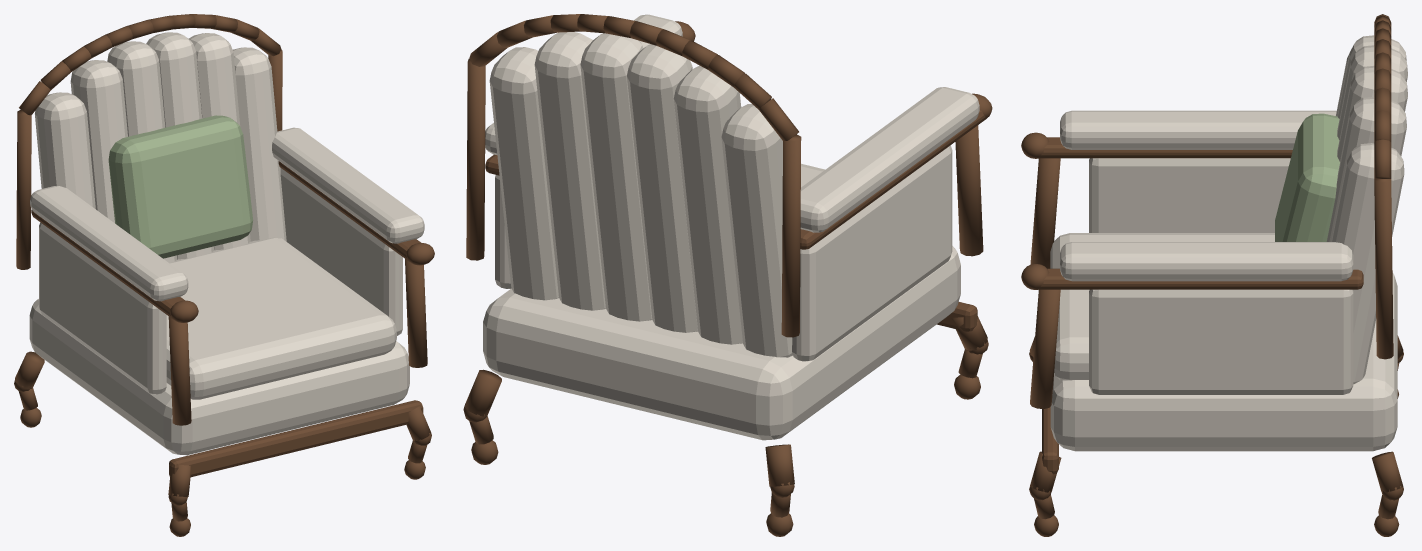
The model's file is armchair.glb.
The picture shows the model from 3 angles, left to right: view 1: azimuth 30°, elevation 25°; view 2: azimuth 150°, elevation 25°; view 3: azimuth 270°, elevation 25°; orthographic projection. The views are drawn at different scales.
Parts seen in each view (by area): view 1: chair, seat; view 2: chair; view 3: chair, seat.
Part boxes in pixels (left/top/right/bottom): chair: left=14, top=14, right=434, bottom=536; seat: left=166, top=237, right=396, bottom=399; chair: left=463, top=14, right=992, bottom=536; chair: left=1021, top=14, right=1407, bottom=536; seat: left=1050, top=233, right=1274, bottom=380.
Size of the model in its own units: 0.74 by 0.9825 by 0.7972.
